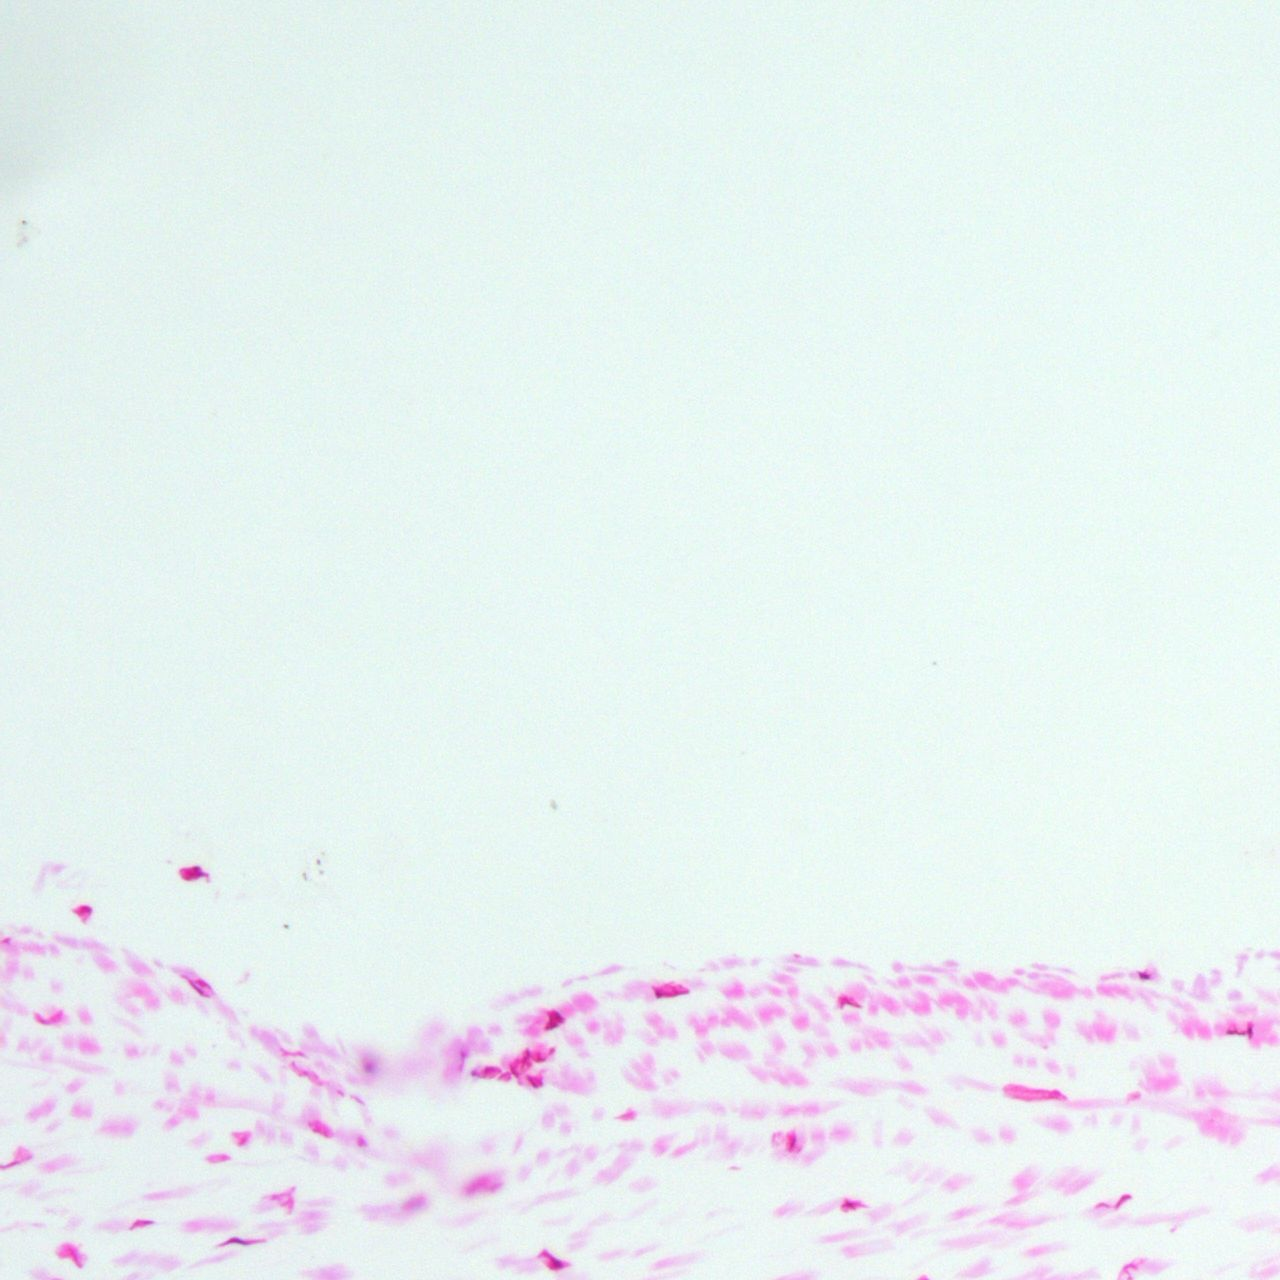dust: (302, 871, 307, 880), (282, 922, 290, 928), (320, 851, 328, 856), (318, 869, 324, 874), (315, 859, 321, 864)
nucleus-FG: (459, 1167, 501, 1199), (287, 1058, 327, 1090), (536, 1246, 568, 1276), (1001, 1084, 1067, 1099), (506, 1046, 537, 1077), (652, 978, 692, 1000), (305, 1115, 336, 1141), (215, 1234, 268, 1248), (181, 974, 209, 1000), (30, 1008, 64, 1026), (177, 864, 210, 881), (543, 1008, 564, 1032), (469, 1065, 501, 1080), (127, 1214, 154, 1231), (72, 904, 94, 922), (837, 994, 862, 1010), (840, 1197, 866, 1211), (1114, 1191, 1133, 1208), (233, 1131, 253, 1148), (783, 1130, 797, 1152), (195, 975, 213, 992), (526, 1073, 543, 1088), (361, 1058, 376, 1073), (350, 1092, 366, 1107), (280, 1049, 306, 1057), (495, 1070, 510, 1082), (1136, 971, 1150, 981), (1225, 1029, 1246, 1036), (532, 1051, 545, 1062), (1094, 1201, 1109, 1210), (358, 1136, 368, 1148), (1246, 1024, 1253, 1040), (336, 1090, 345, 1099)
